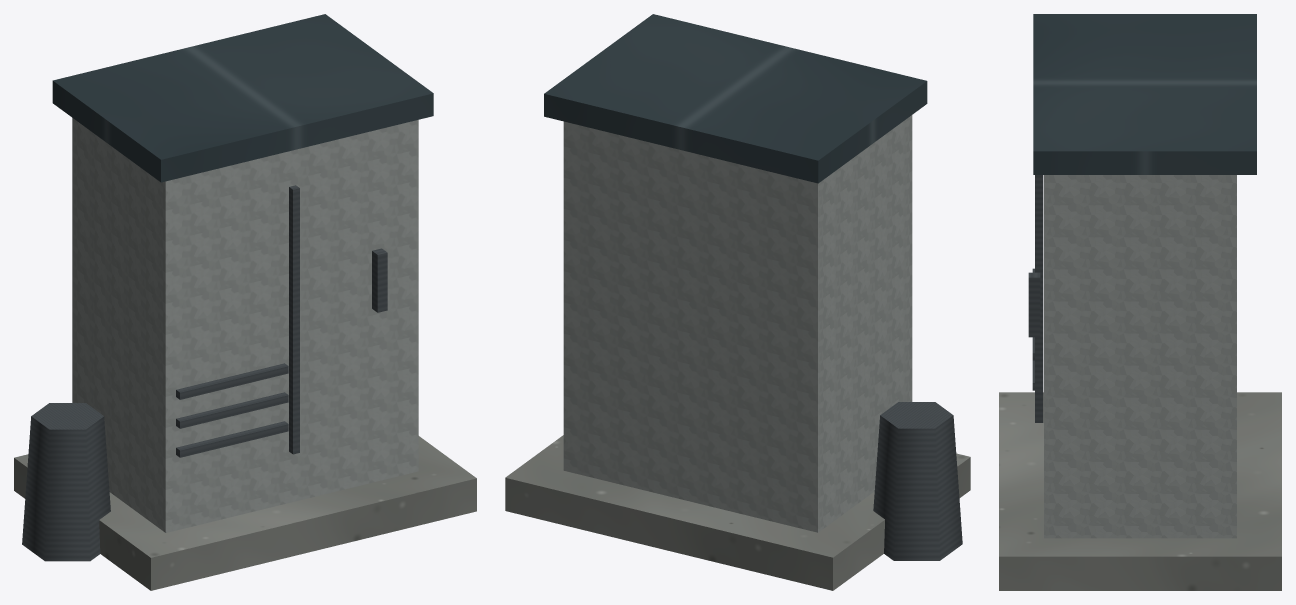
The model's file is service-telecom-cabinet.lod1.gltf.
3 renders of one model, left to right at view 1: azimuth 30°, elevation 25°; view 2: azimuth 150°, elevation 25°; view 3: azimuth 270°, elevation 25°, orthographic. The views are drawn at different scales.
Parts seen in each view (by area): view 1: service-telecom-cabinet; view 2: service-telecom-cabinet; view 3: service-telecom-cabinet.
Boxes of the visible parts, x1,y1,x2,y2 form: service-telecom-cabinet: [14, 14, 476, 590]; service-telecom-cabinet: [505, 14, 970, 590]; service-telecom-cabinet: [999, 14, 1281, 590].
Size of the model in its own units: 1.9 by 2 by 1.2.
Materials: 4 (4 with a texture image).
